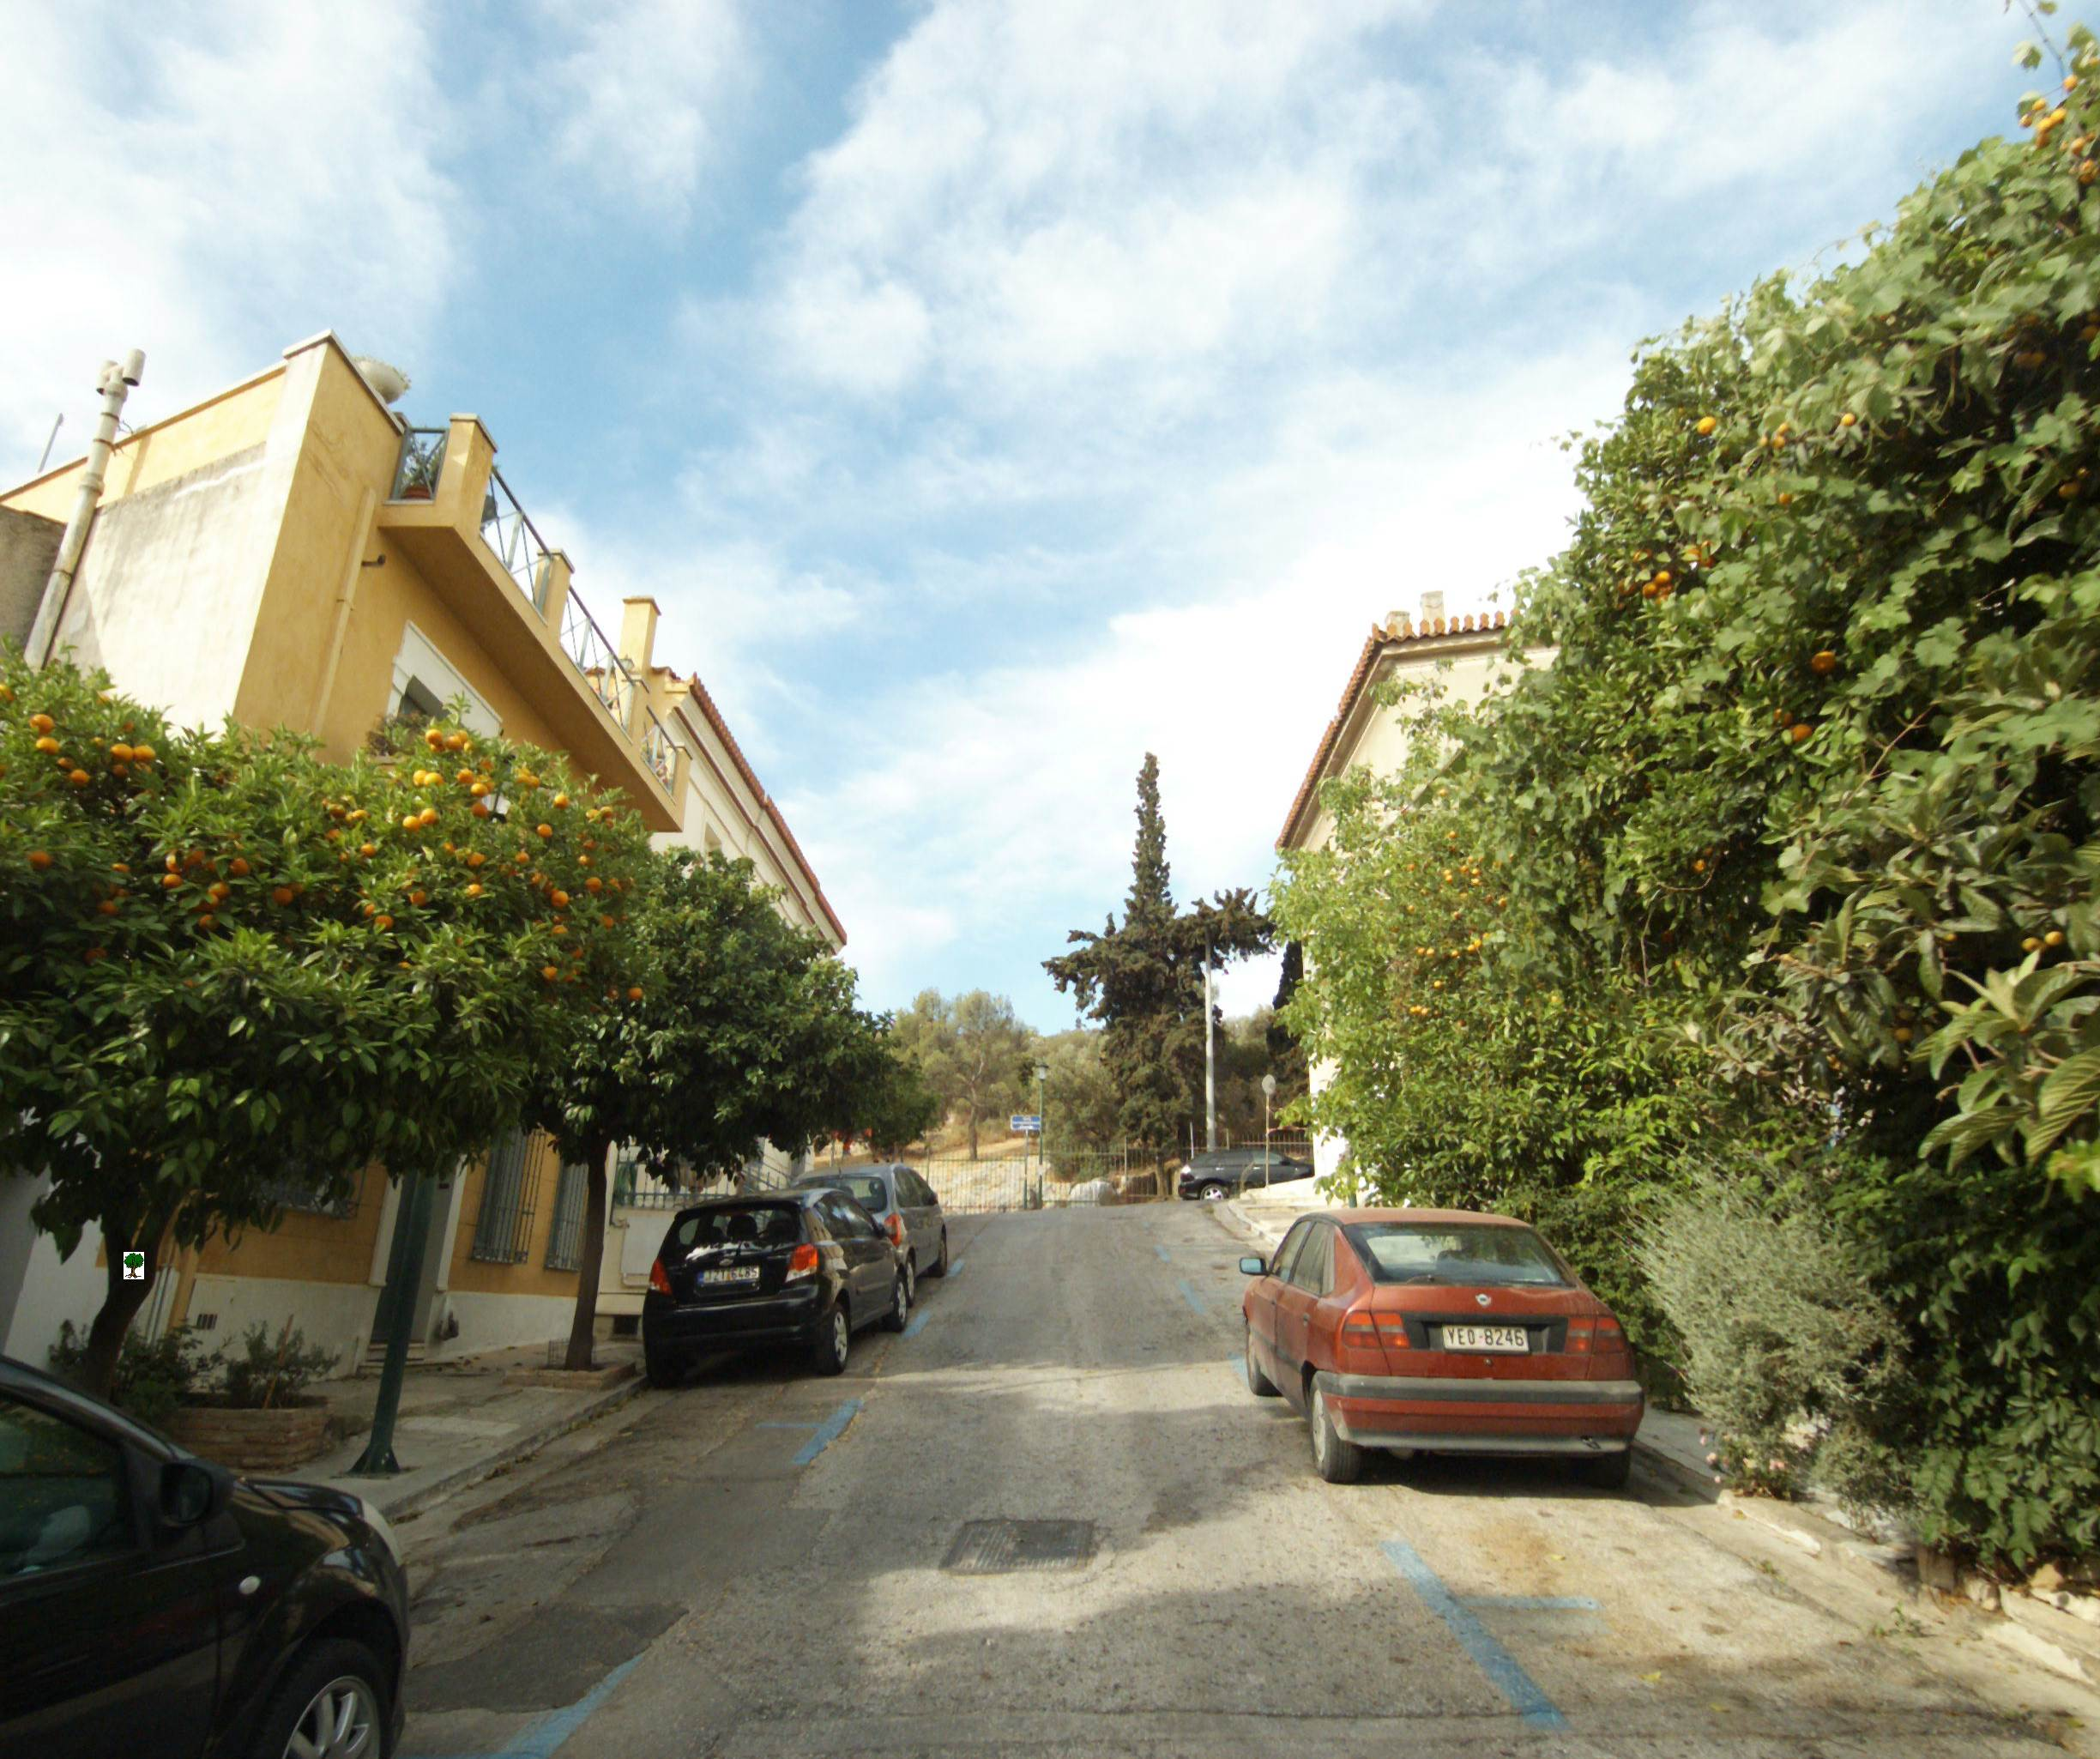tree: (5, 642, 405, 1656)
